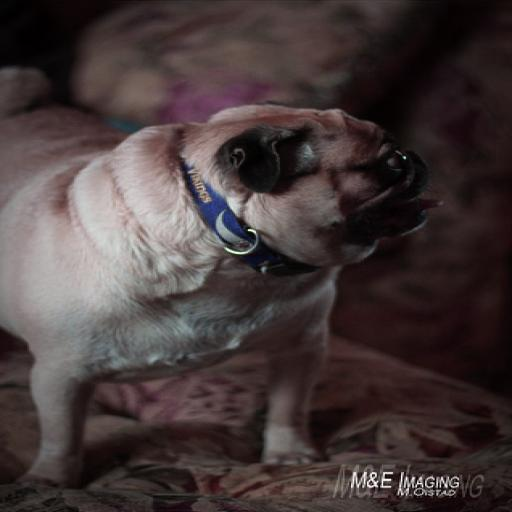dog_face: (179, 109, 454, 257)
